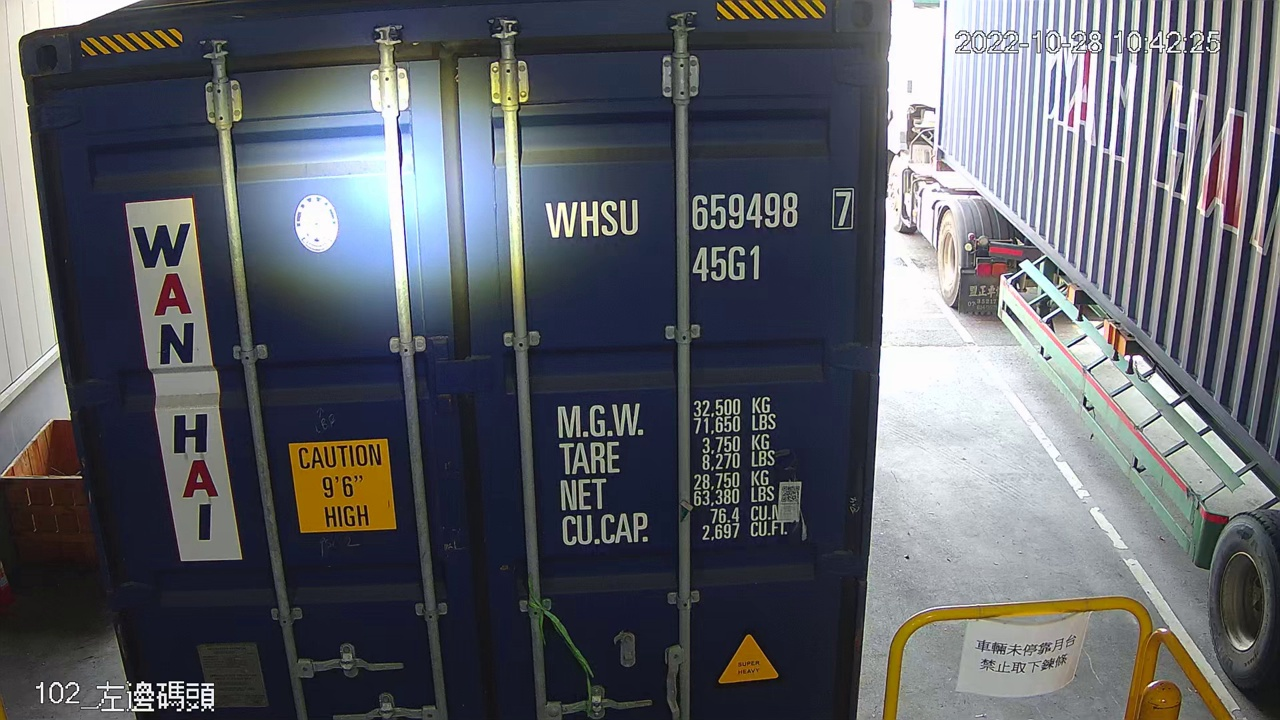container: (539, 181, 864, 288)
